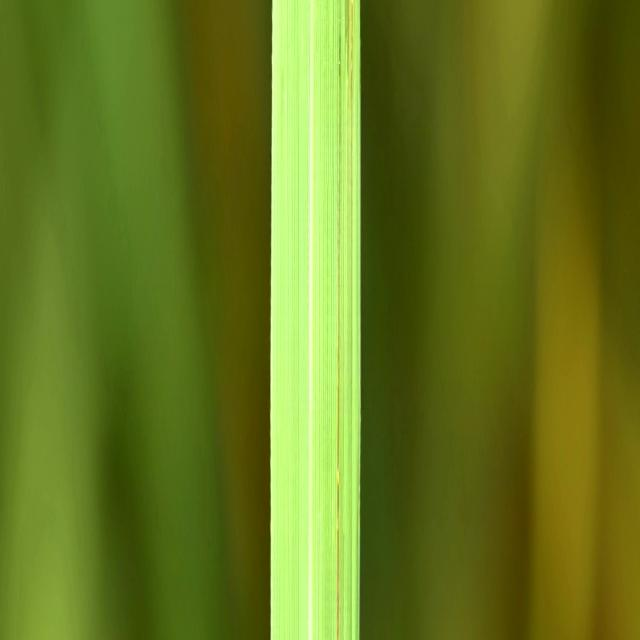BLS: (337, 33, 340, 640), (351, 0, 354, 191), (346, 0, 349, 76)
